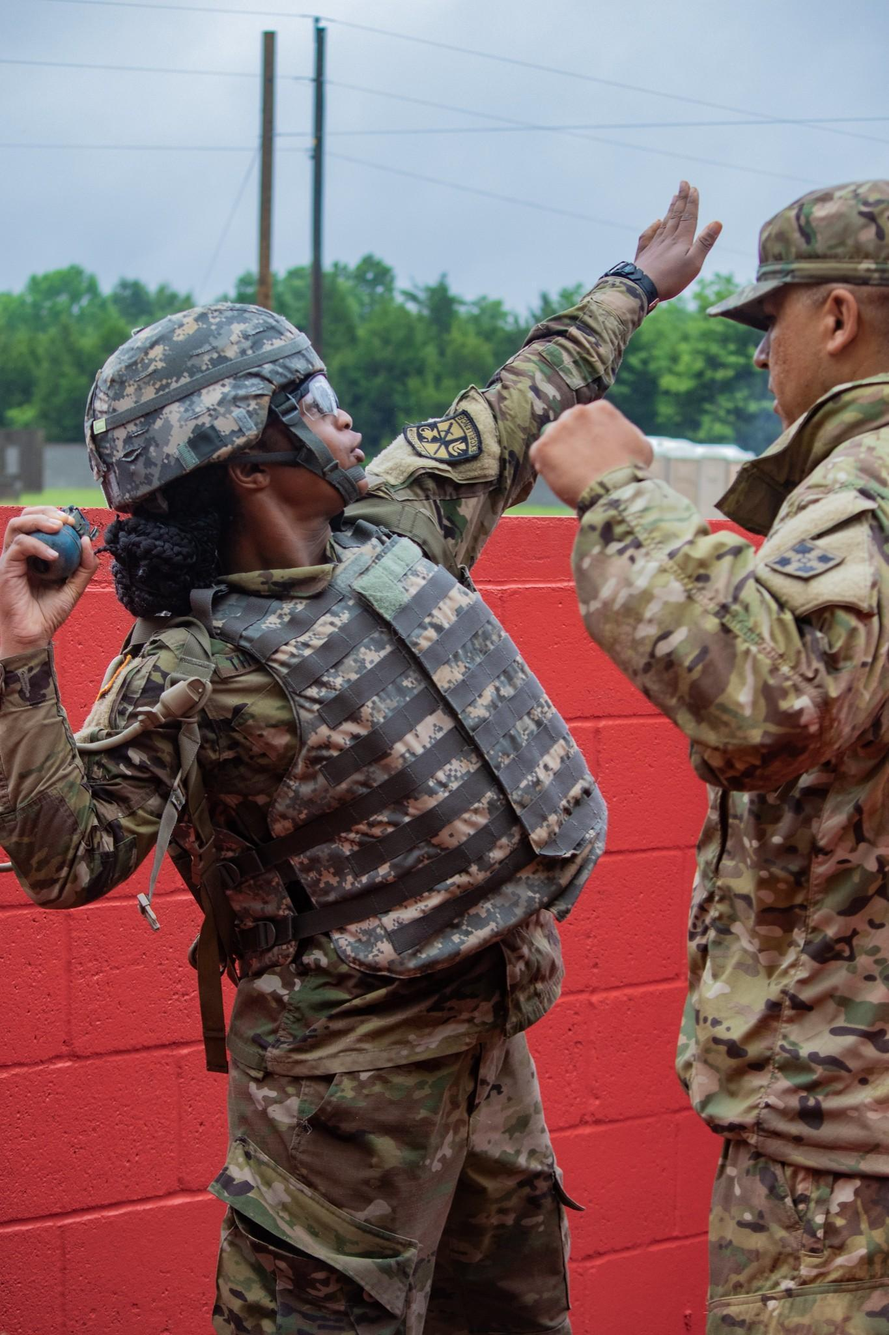Grenade: (19, 503, 98, 584)
